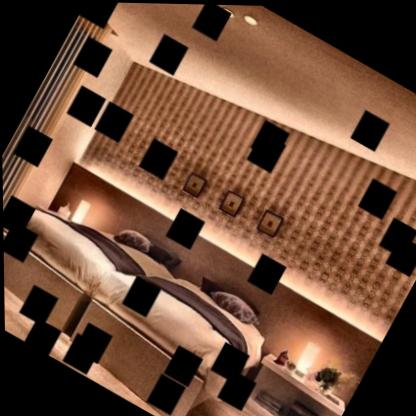Bed: (60, 218, 289, 416), (2, 161, 183, 364)
Frame: (248, 200, 289, 242), (212, 183, 250, 223), (176, 165, 211, 203)
Nightstand: (219, 329, 357, 416)
